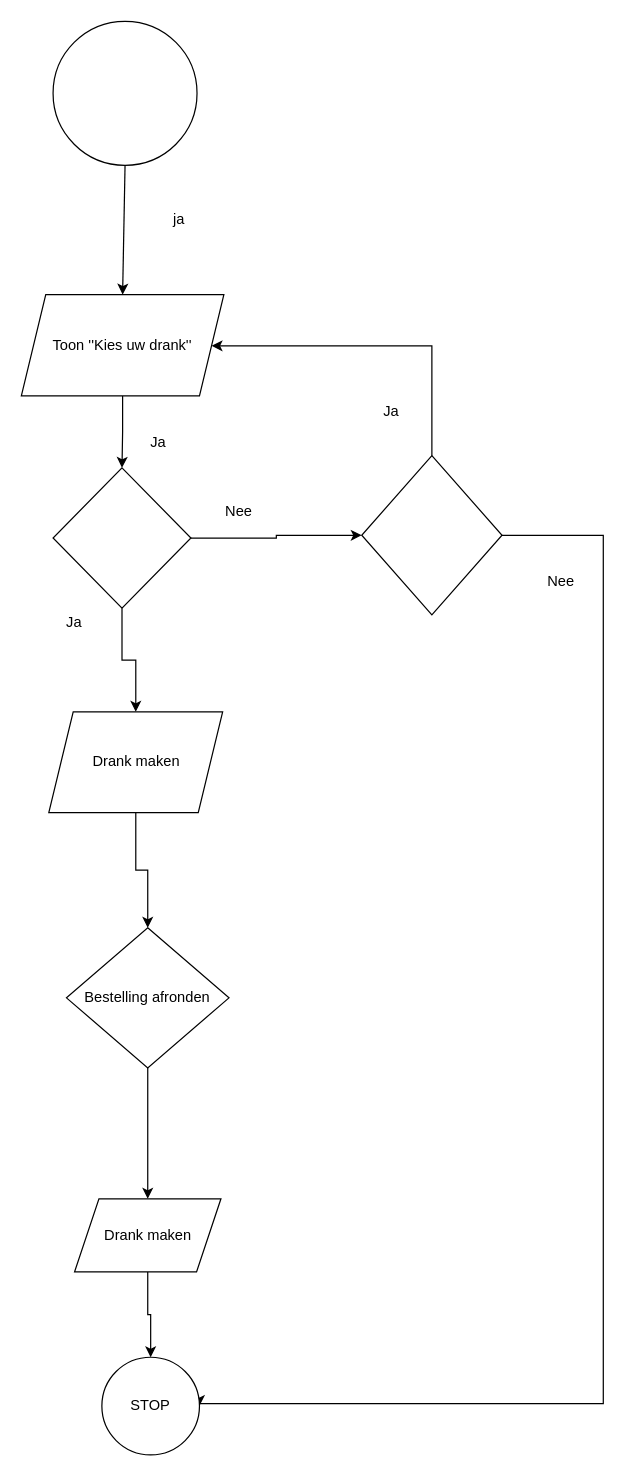
Some shapes in this 634 by 1476 pixel diagram are drawn without their labels. The centre of each missing label's shape, as x and y in pixels:
Annuleren: point 431,534
Betalen: point 121,537
START: point 124,92
